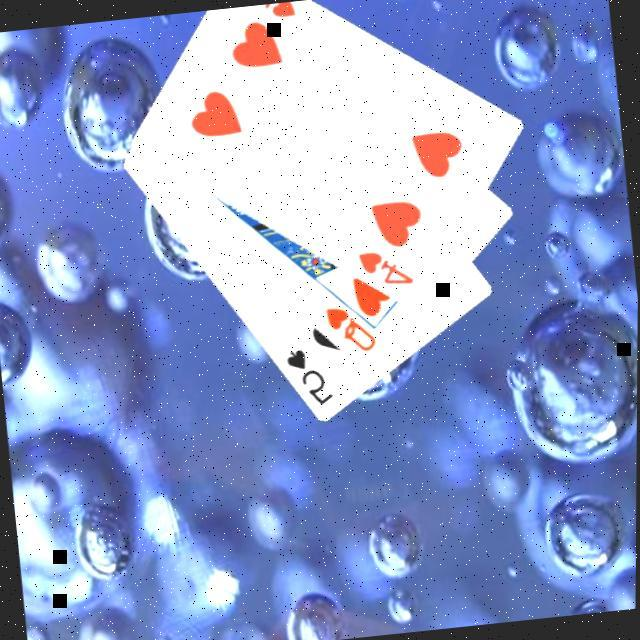4H: (353, 246, 417, 296), (238, 0, 300, 28)
5S: (280, 344, 337, 414)
QH: (320, 302, 380, 362)
